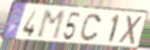1: (107, 14, 122, 44)
4: (21, 9, 39, 39)
5: (62, 11, 82, 41)
C: (78, 13, 103, 43)
M: (36, 9, 67, 41)
X: (117, 15, 145, 47)
